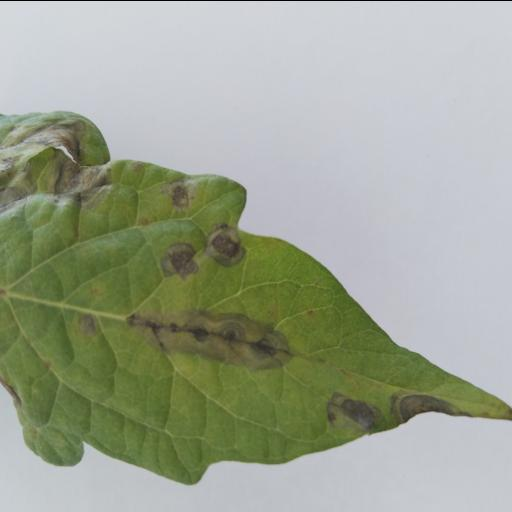Early Blight: (0, 108, 512, 482)
